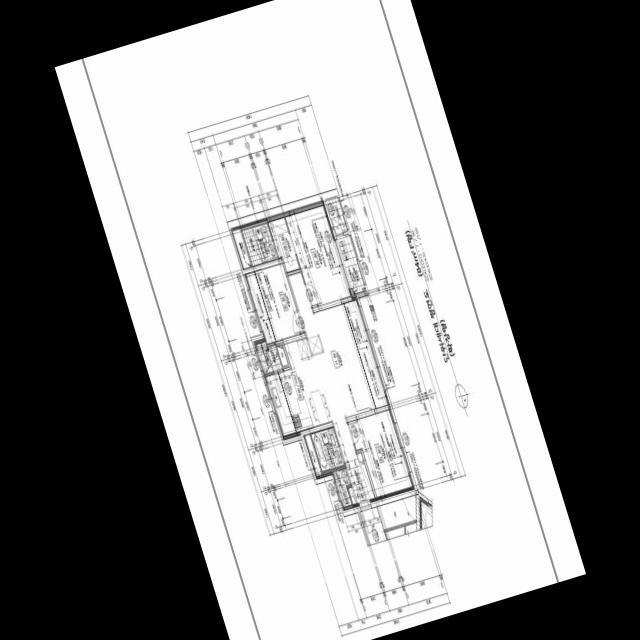background: (54, 0, 586, 640)
space_balconi: (336, 233, 365, 293), (253, 338, 282, 374), (331, 467, 352, 509)
space_bedroom: (284, 200, 353, 307), (348, 408, 414, 499), (244, 262, 303, 343)
space_dressroom: (266, 212, 299, 271)
space_front: (345, 452, 375, 506)
space_kitchen: (264, 336, 332, 439)
space_living_room: (287, 271, 389, 462)
space_other: (230, 225, 251, 269), (303, 433, 322, 478), (325, 195, 347, 233), (276, 344, 287, 365)
space_toilet: (241, 222, 278, 266), (310, 426, 344, 471)
